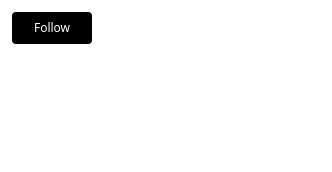
Test case: FollowButton › flips to Unfollow after a successful follow
This screenshot has width=332, height=172.
Click the button "Follow" at [52, 28], box 12,12 -> 92,44
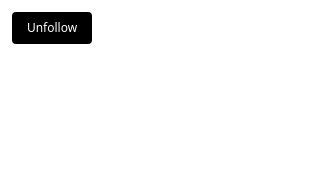
Expected: the button reads "Unfollow", 12,12 -> 92,44
